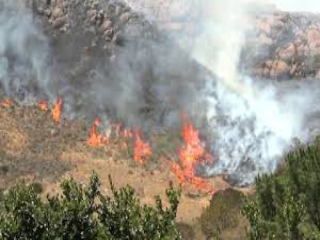fire: (79, 120, 154, 166), (169, 117, 211, 191), (28, 98, 67, 130)
smoke: (204, 14, 314, 184), (1, 5, 60, 105)
